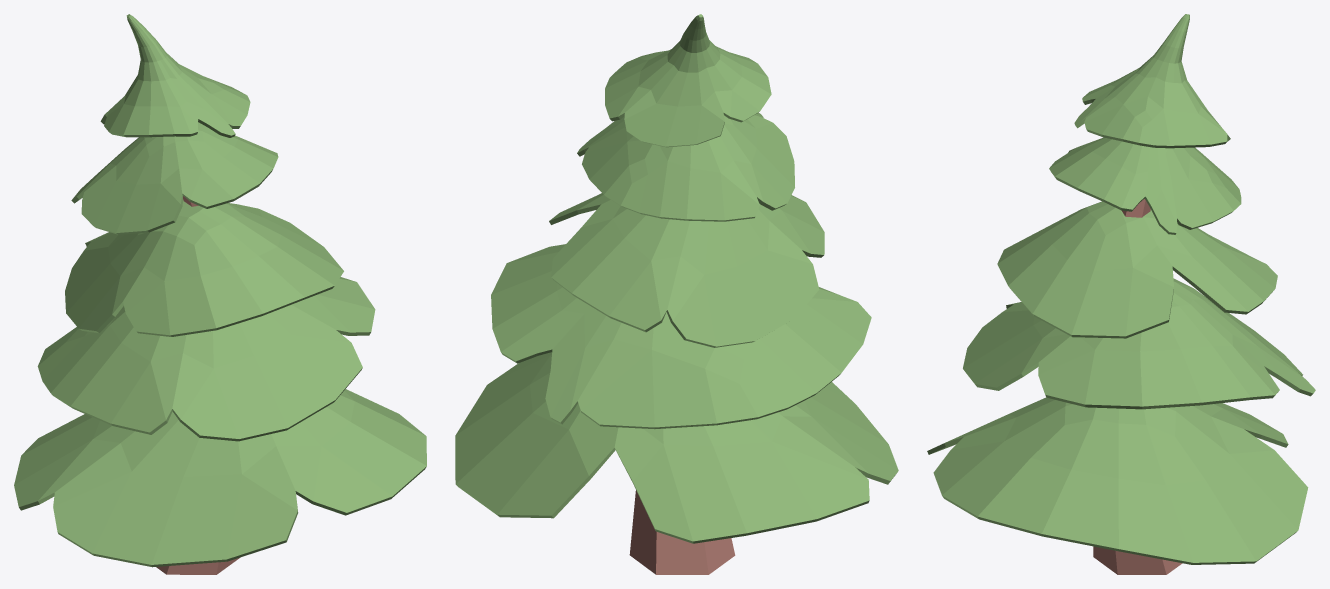
Rendered from pine_1.glb.
3 views of the same model, side by side, from view 1: azimuth 30°, elevation 25°; view 2: azimuth 150°, elevation 25°; view 3: azimuth 270°, elevation 25° (orthographic). The views are drawn at different scales.
Parts seen in each view (by area): view 1: PineTree_1; view 2: PineTree_1; view 3: PineTree_1.
Boxes of the visible parts, bbox=[...] form: PineTree_1: bbox=[14, 14, 426, 574]; PineTree_1: bbox=[455, 14, 898, 574]; PineTree_1: bbox=[927, 14, 1315, 574].
Size of the model in its own units: 1.96 by 2.7 by 1.82.
